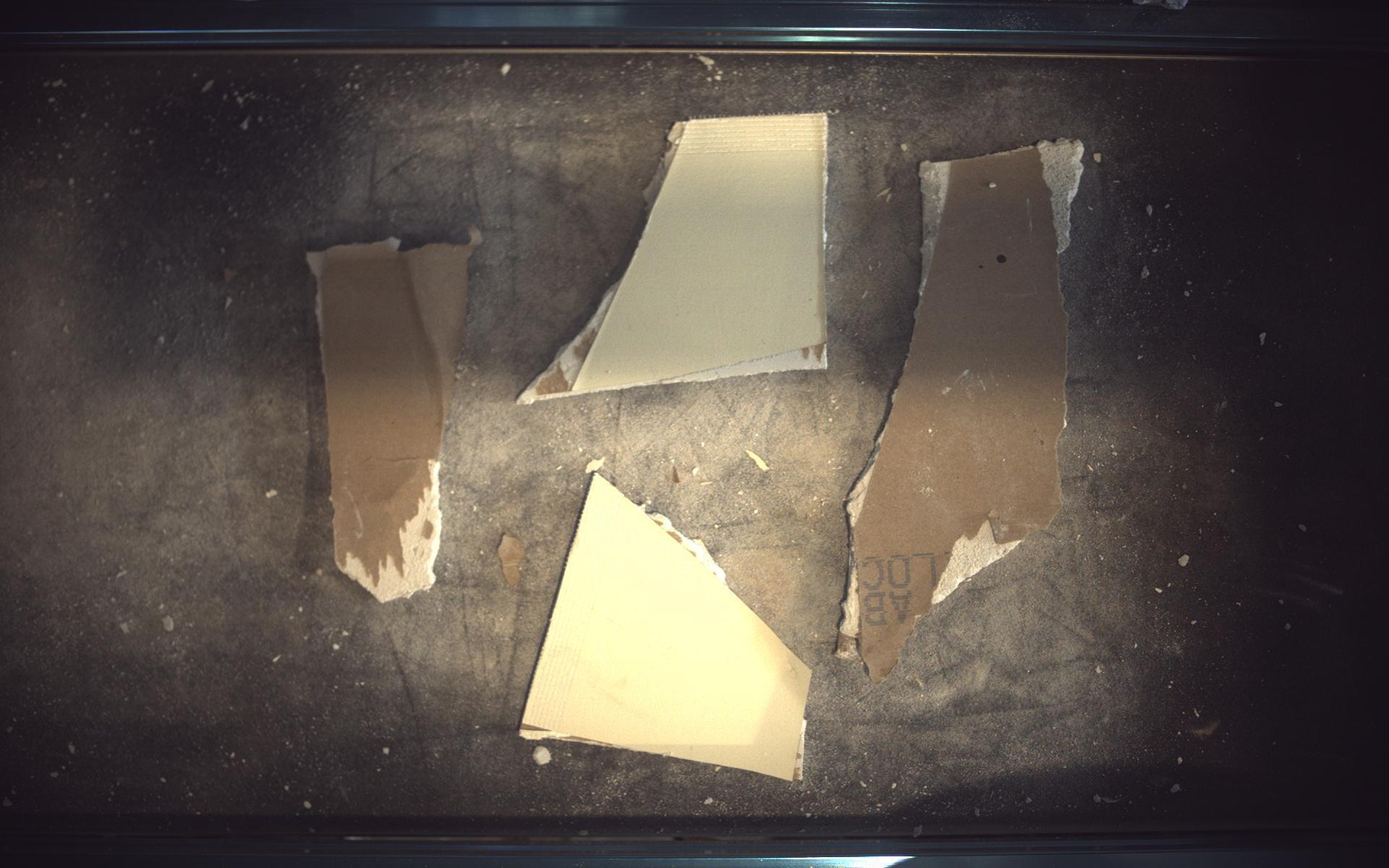gypsum_board: (839, 139, 1086, 682), (519, 112, 828, 404), (520, 474, 812, 782), (306, 229, 479, 603)
